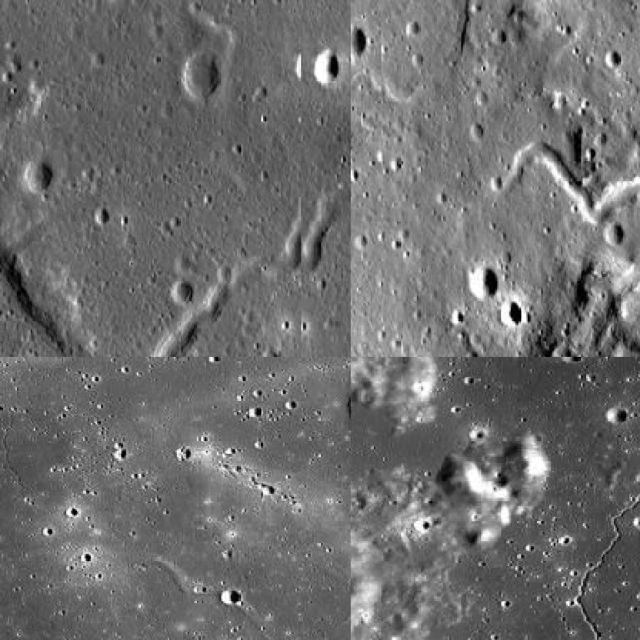rille: (408, 357, 638, 638), (0, 357, 146, 638), (105, 252, 283, 356), (497, 140, 638, 228)
